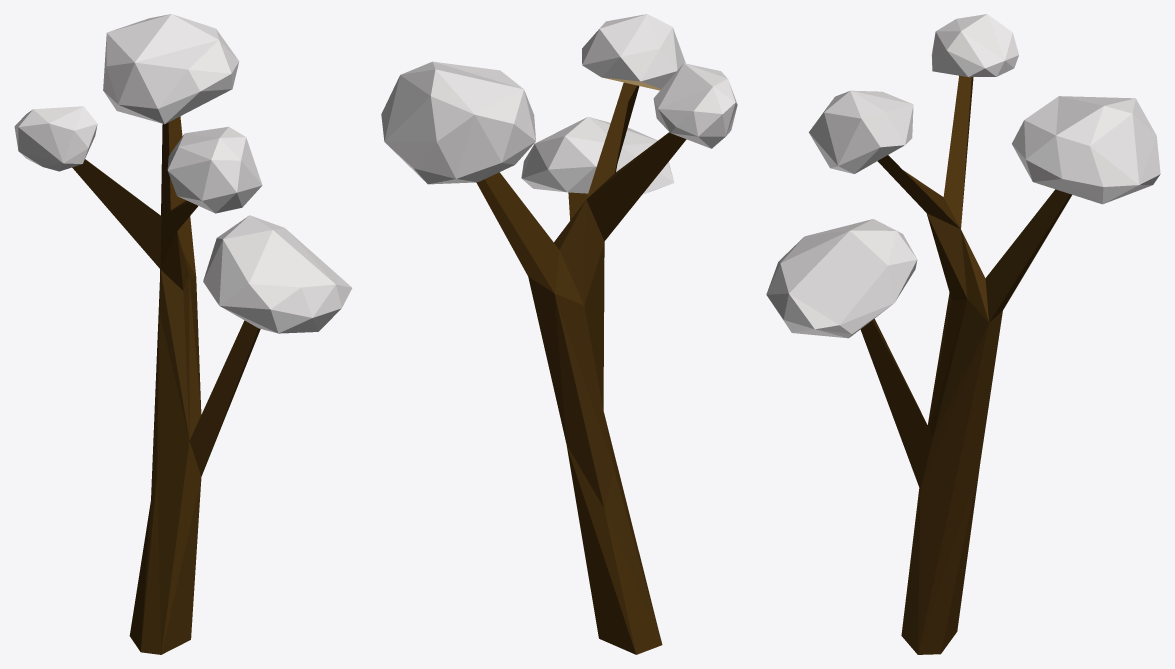
The model's file is Snow_tree_small_twig.fbx.
3 renders of one model, left to right at view 1: azimuth 30°, elevation 25°; view 2: azimuth 150°, elevation 25°; view 3: azimuth 270°, elevation 25°, orthographic. The views are drawn at different scales.
Visible parts, largest first — view 1: Icosphere.002; view 2: Icosphere.002; view 3: Icosphere.002.
Part boxes in pixels (<box>): Icosphere.002: <box>14,14,352,654</box>; Icosphere.002: <box>381,14,737,654</box>; Icosphere.002: <box>766,14,1160,654</box>.
Size of the model in its own units: 294 by 593 by 362.
